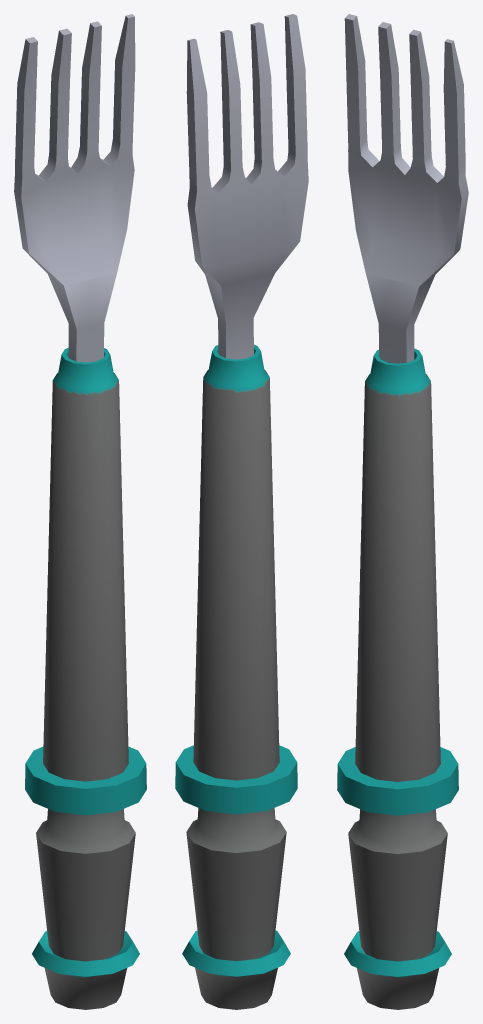
The model's file is fork.fbx.
3 renders of one model, left to right at view 1: azimuth 30°, elevation 25°; view 2: azimuth 210°, elevation 25°; view 3: azimuth 330°, elevation 25°, orthographic.
Visible parts, largest first — view 1: Fork; view 2: Fork; view 3: Fork.
Part boxes in pixels (x1,y1,x2,y2): Fork: (14,14,146,1009); Fork: (175,14,308,1009); Fork: (337,14,468,1009).
Size of the model in its own units: 6.63 by 53.92 by 6.17.
